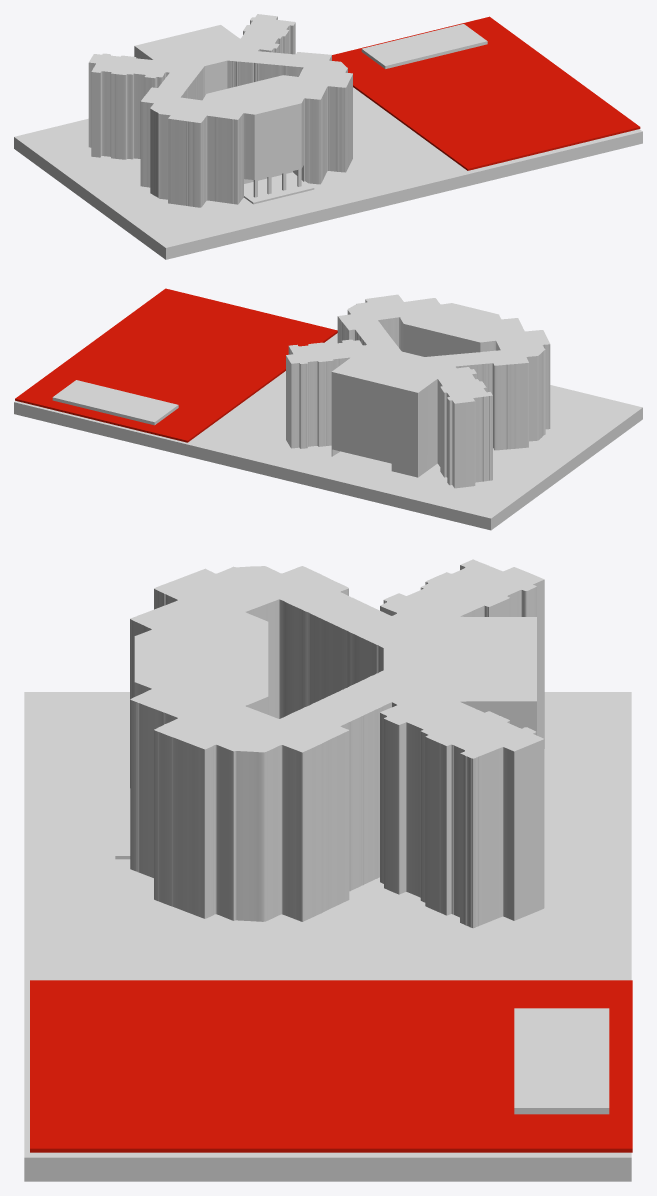
Rendered from SSCBS.glb.
3 renders of one model, top to bottom at view 1: azimuth 30°, elevation 25°; view 2: azimuth 150°, elevation 25°; view 3: azimuth 270°, elevation 25°, orthographic. The views are drawn at different scales.
Visible parts, largest first — view 1: ImageToStl.com_sscbs-layout, Cube, Cube.001, Cube.002, Cube.008; view 2: ImageToStl.com_sscbs-layout, Cube, Cube.001, Cube.002; view 3: ImageToStl.com_sscbs-layout, Cube, Cube.001, Cube.002, Cube.008.
Boxes of the visible parts, x1,y1,x2,y2 form: ImageToStl.com_sscbs-layout: (88,14,352,207); Cube: (14,87,642,259); Cube.001: (332,16,640,170); Cube.002: (361,24,487,68); Cube.008: (244,172,314,204); ImageToStl.com_sscbs-layout: (286,294,550,488); Cube: (14,333,642,530); Cube.001: (15,288,337,442); Cube.002: (52,380,178,425); ImageToStl.com_sscbs-layout: (130,559,544,928); Cube: (24,692,631,1181); Cube.001: (30,980,632,1152); Cube.002: (514,1008,609,1114); Cube.008: (115,796,130,859).
Size of the model in its own units: 246 by 47.7 by 136.
